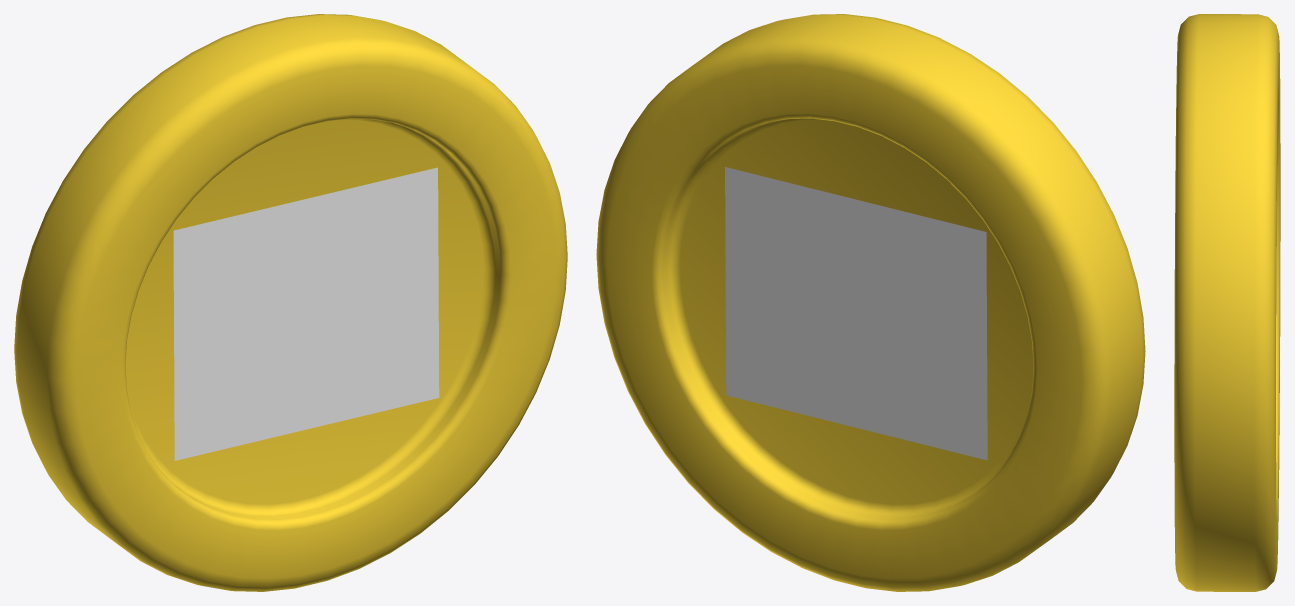
File: 3dCoinb.fbx
The picture shows the model from 3 angles, left to right: view 1: azimuth 30°, elevation 25°; view 2: azimuth 150°, elevation 25°; view 3: azimuth 270°, elevation 25°; orthographic projection. The views are drawn at different scales.
Parts seen in each view (by area): view 1: Coin, Plane001; view 2: Coin, Plane002; view 3: Coin.
Boxes of the visible parts, box(x1,y1,x2,y2) form: Coin: box(14, 14, 567, 591); Plane001: box(173, 167, 439, 460); Coin: box(596, 14, 1145, 591); Plane002: box(725, 167, 987, 460); Coin: box(1174, 14, 1280, 591).
Bounding box in the file's own units: 0.4004 × 0.3992 × 0.0735.
2 materials, 1 textured.
